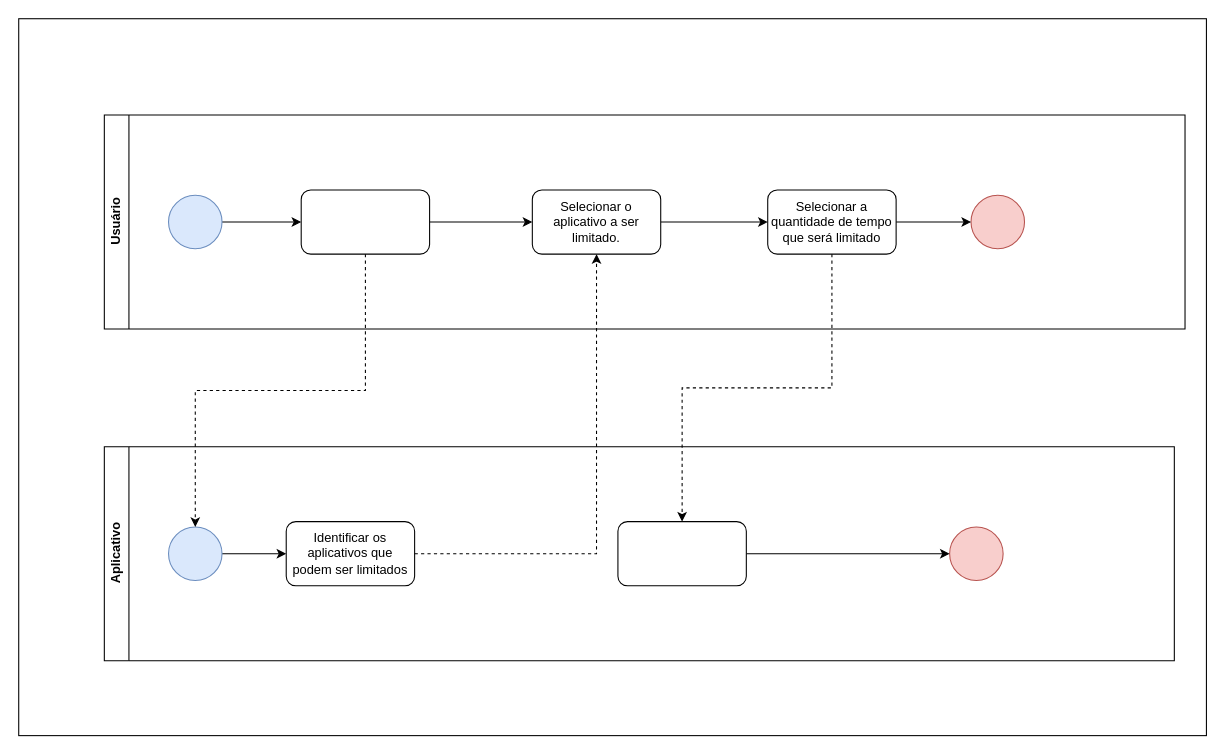
This 1225x754 diagram has some shape labels left out. The shapes that lost their labels are listed below. From the top down, each one's centre as x and y in pixels, then its label:
At point (365, 221): "Selecionar o botão de limitar aplicativos.".
At point (681, 553): "Limitar o aplicativo selecionado".
